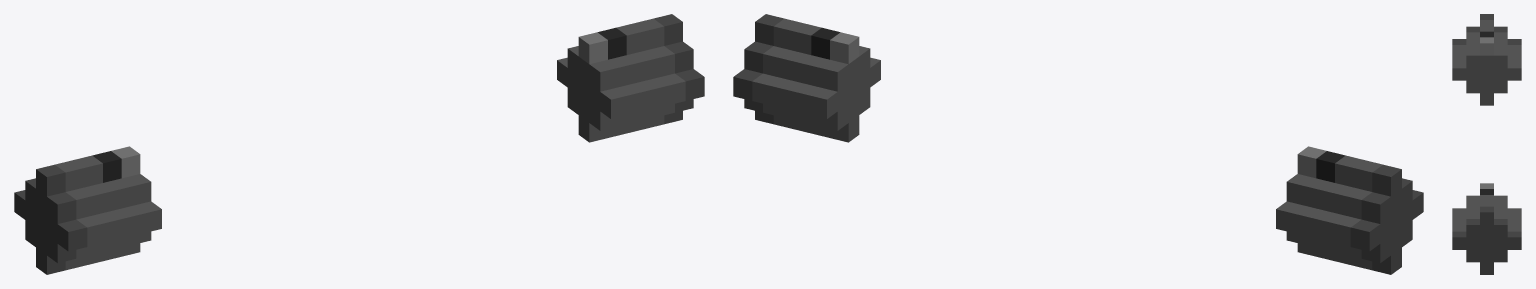
File: character forearm modeling.obj
3 renders of one model, left to right at view 1: azimuth 30°, elevation 25°; view 2: azimuth 150°, elevation 25°; view 3: azimuth 270°, elevation 25°, orthographic. The views are drawn at different scales.
Bounding box in the file's own units: 3.4 × 0.5 × 0.5.
1 material, 1 textured.
